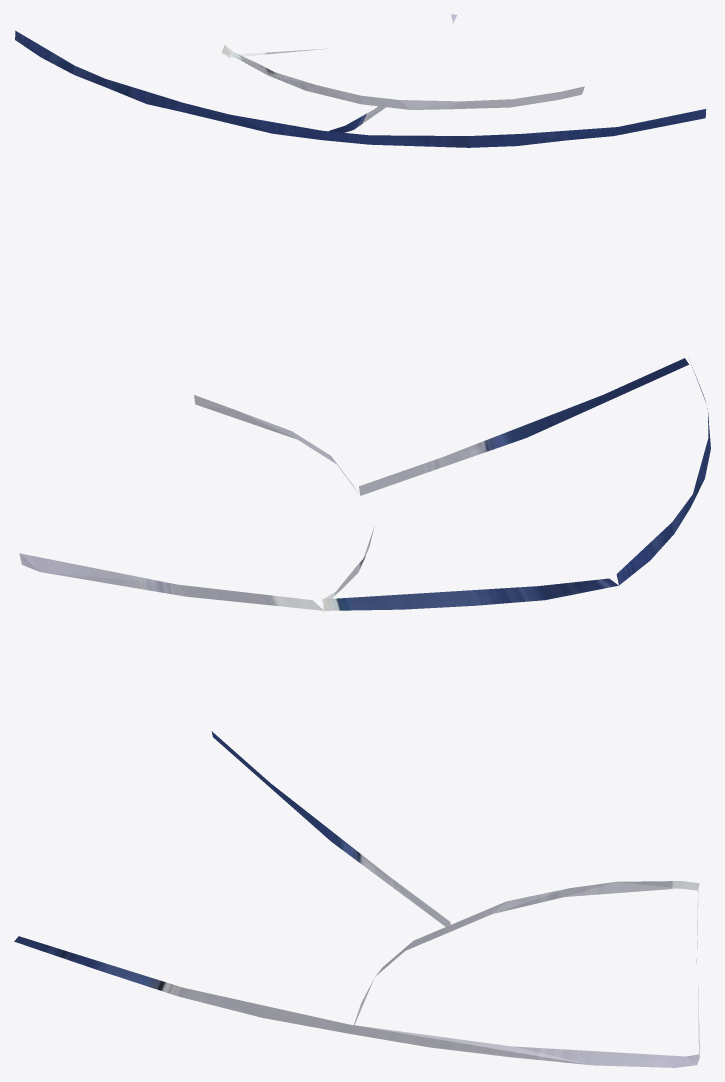
3 views of the same model, one above another, from view 1: azimuth 30°, elevation 25°; view 2: azimuth 150°, elevation 25°; view 3: azimuth 270°, elevation 25° (orthographic). The views are drawn at different scales.
Bounding box in the file's own units: 2492237 × 553817 × 2503176.
Materials: 1 (1 with a texture image).
